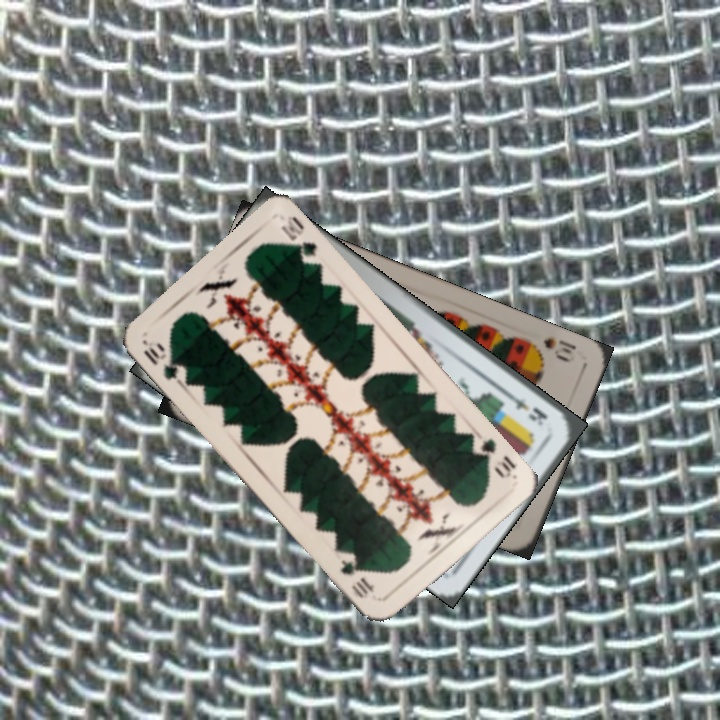EK: (503, 389, 551, 428)
G10: (139, 337, 190, 388), (467, 434, 519, 481)
S10: (538, 333, 579, 366)
